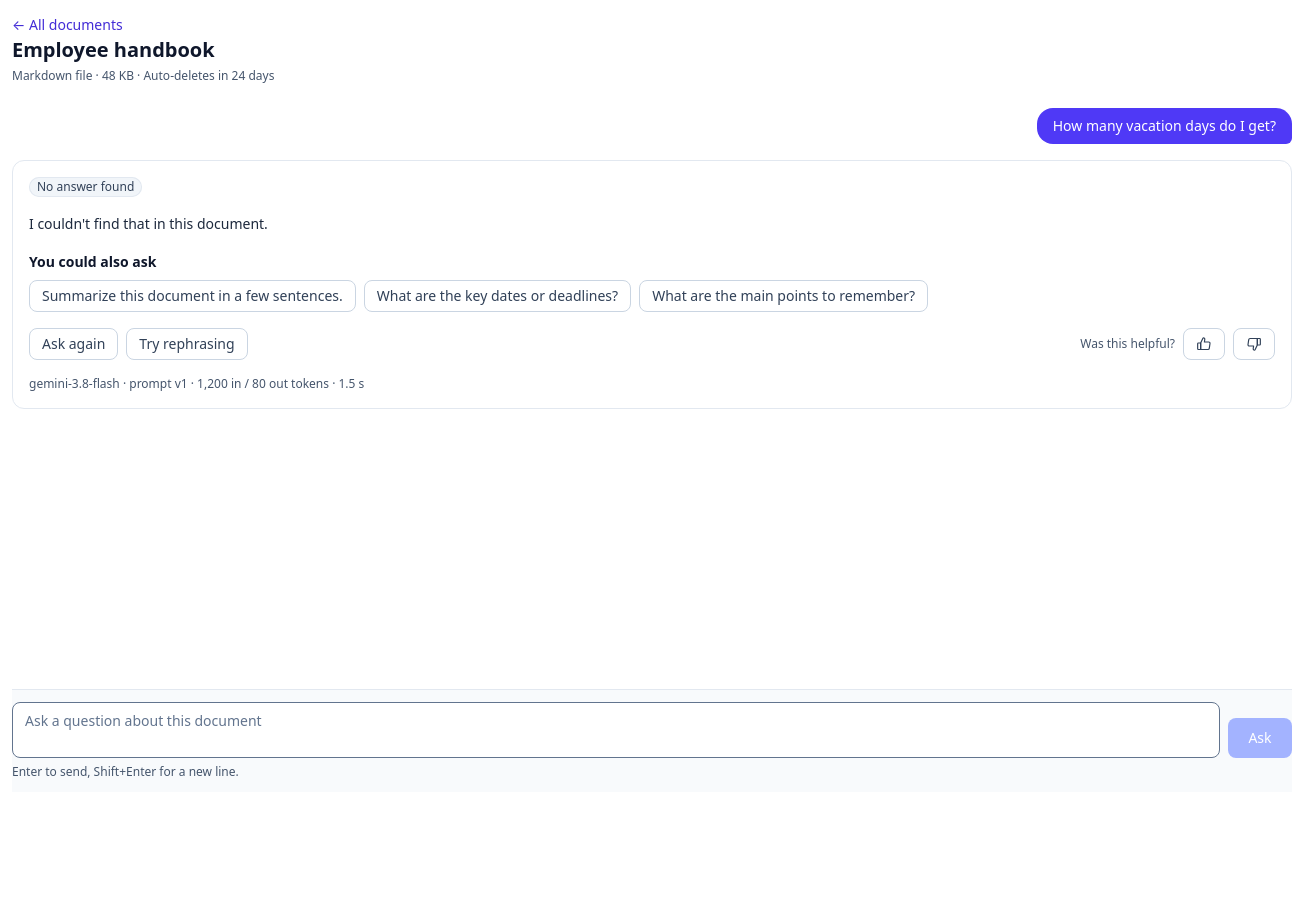
Scenario: ChatView: when the document has no answer › puts the question back in the composer to be rephrased
Click the button "Try rephrasing" at (187, 344), box left=126, top=328, right=248, bottom=360
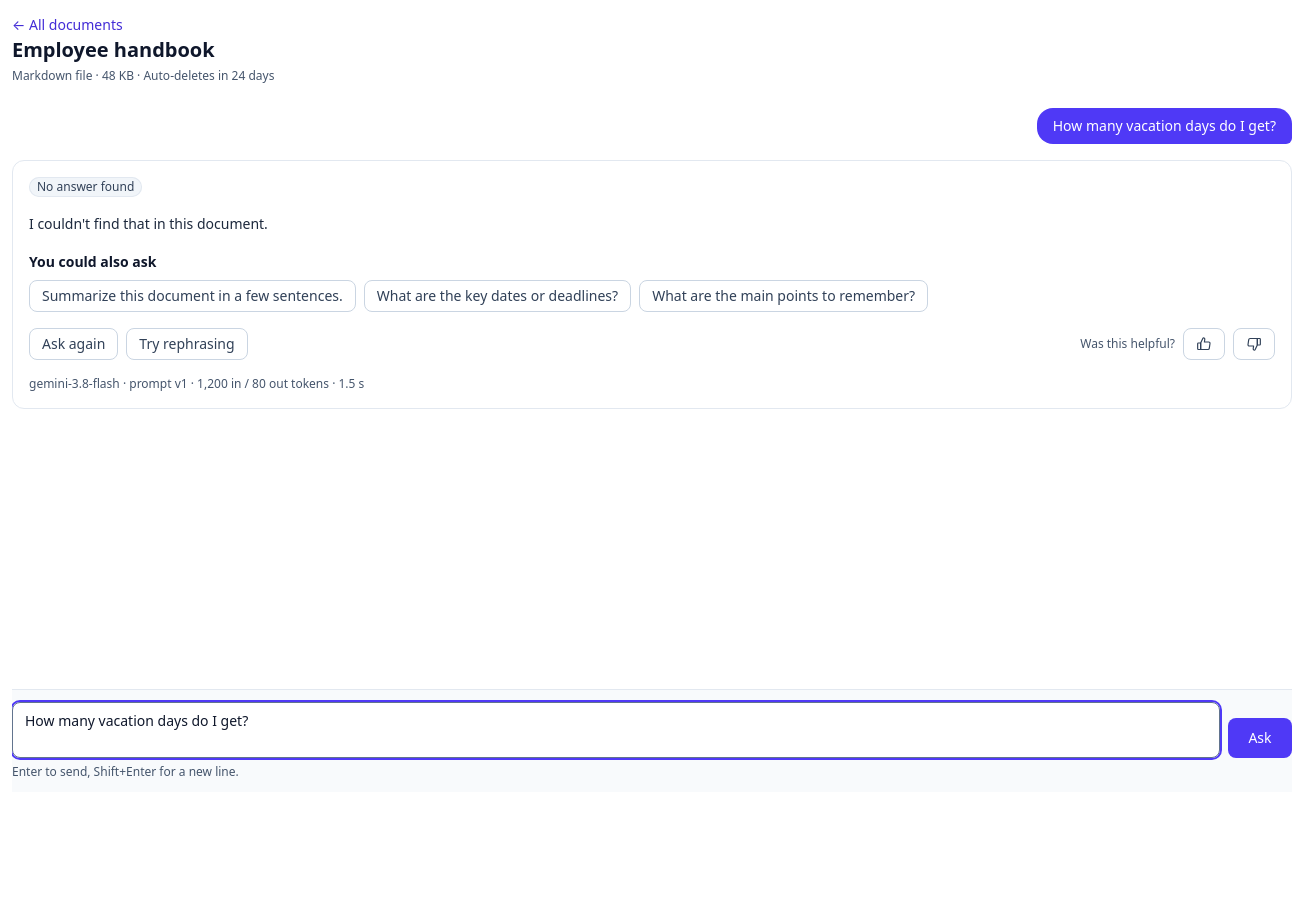
Expected: the text box named "Your question" is enabled, left=12, top=702, right=1220, bottom=758
Now the text box named "Your question" holds "How many vacation days do I get?", box left=12, top=702, right=1220, bottom=758
